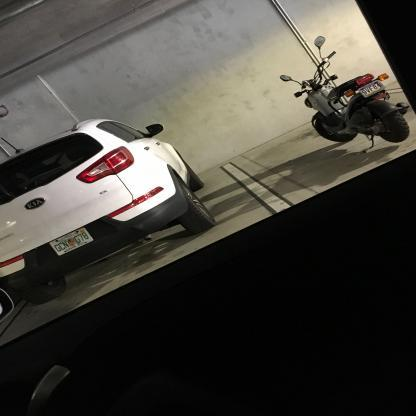License-Plate: (49, 226, 98, 258), (358, 81, 386, 99)
